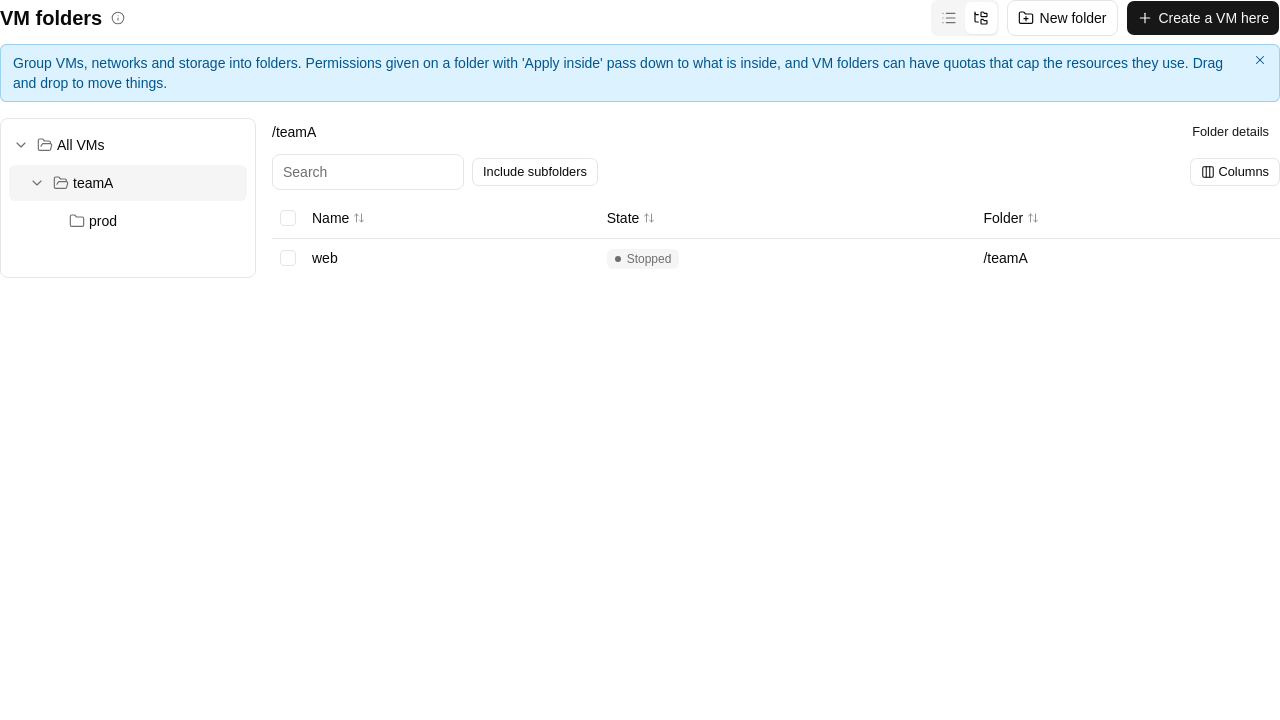
Test case: moves the chosen VMs with the bulk bar after a confirmation
Step 1. Click the checkbox named "Select web" → (288, 258), box [280,250,296,266]
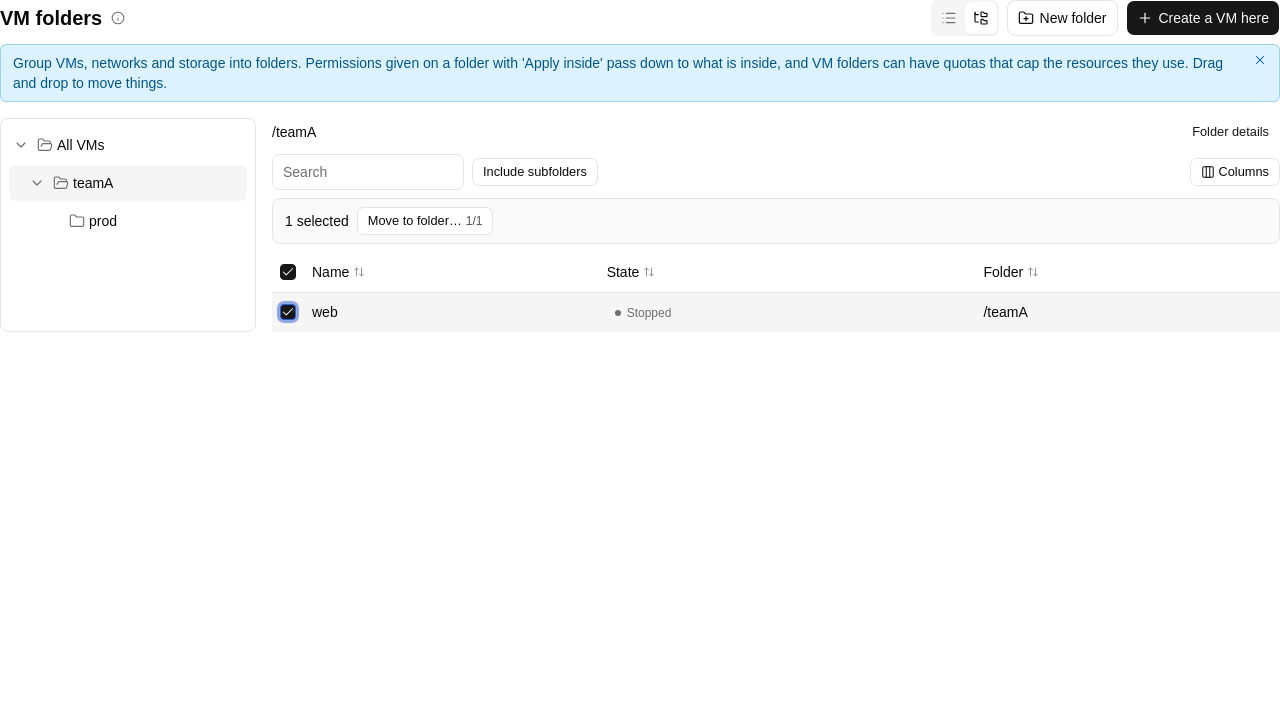
Step 2. Click the button with aria-label "Move to folder (1 possible, 0 not possible)" → (425, 221), box [357,207,493,235]
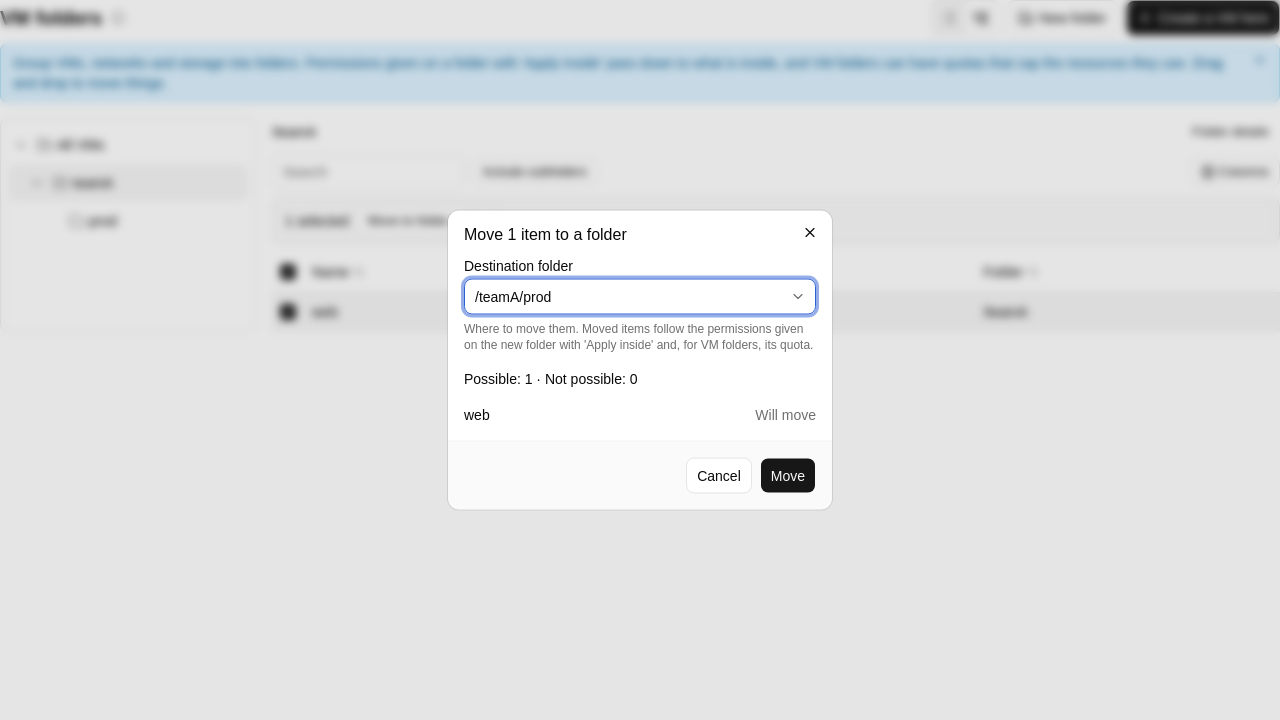
Step 3. Select "/teamA" in the dropdown labelled "Destination folder" → (640, 296), box [464,278,816,314]
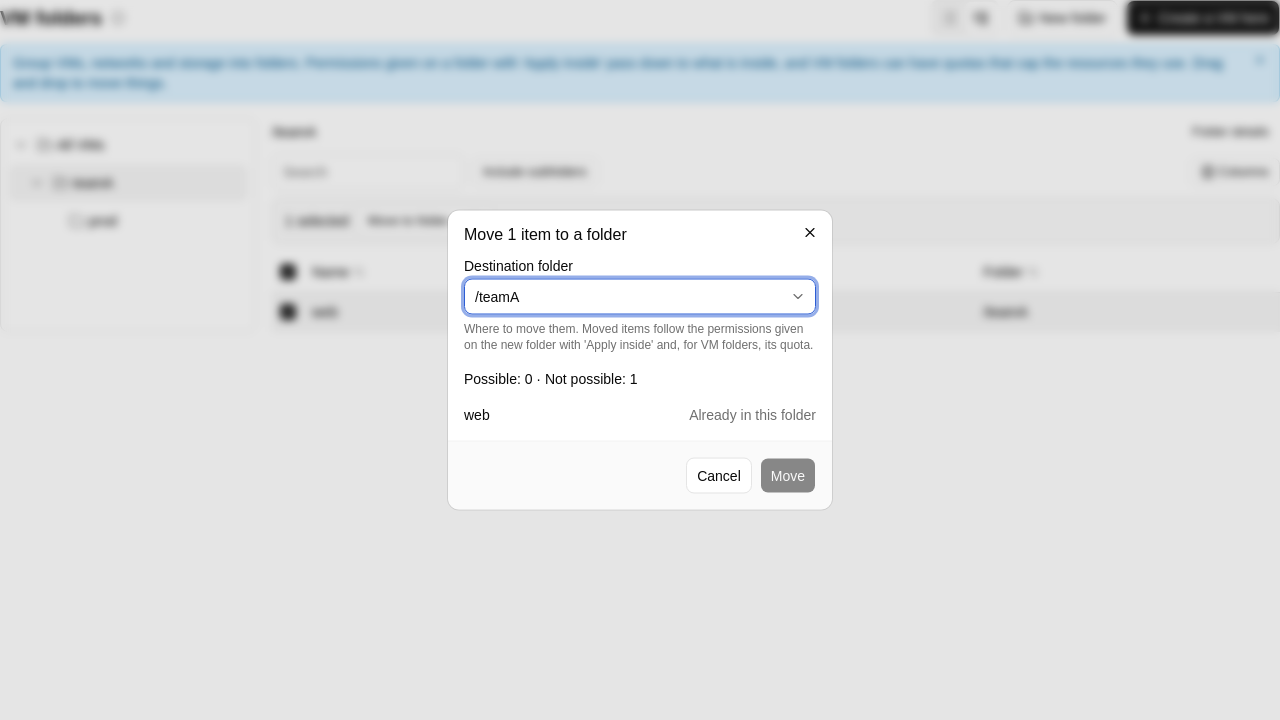
Expected: the text "Already in this folder" is shown, [689,404,816,424]
Expected: the button "Move" is disabled, [760,458,816,494]
Step 4. Select "/teamA/prod" in the dropdown labelled "Destination folder" → (640, 296), box [464,278,816,314]
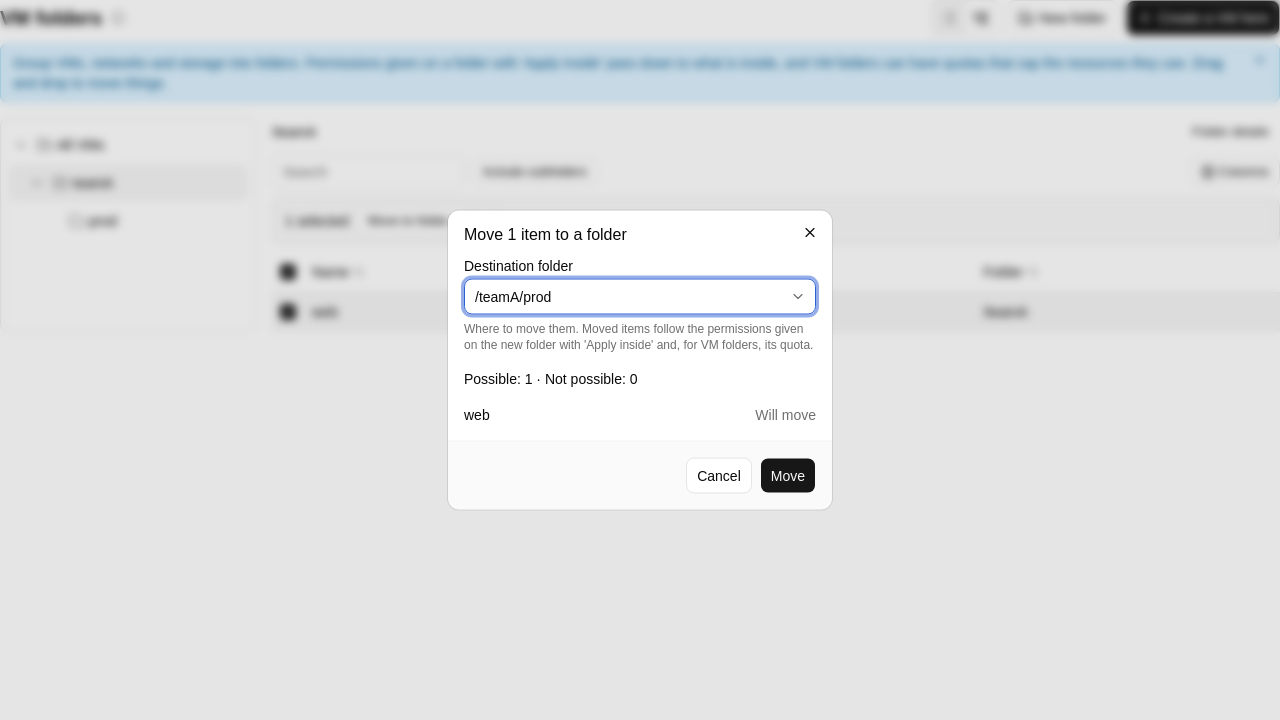
Step 5. Click the button "Move" → (788, 476), box [760,458,816,494]
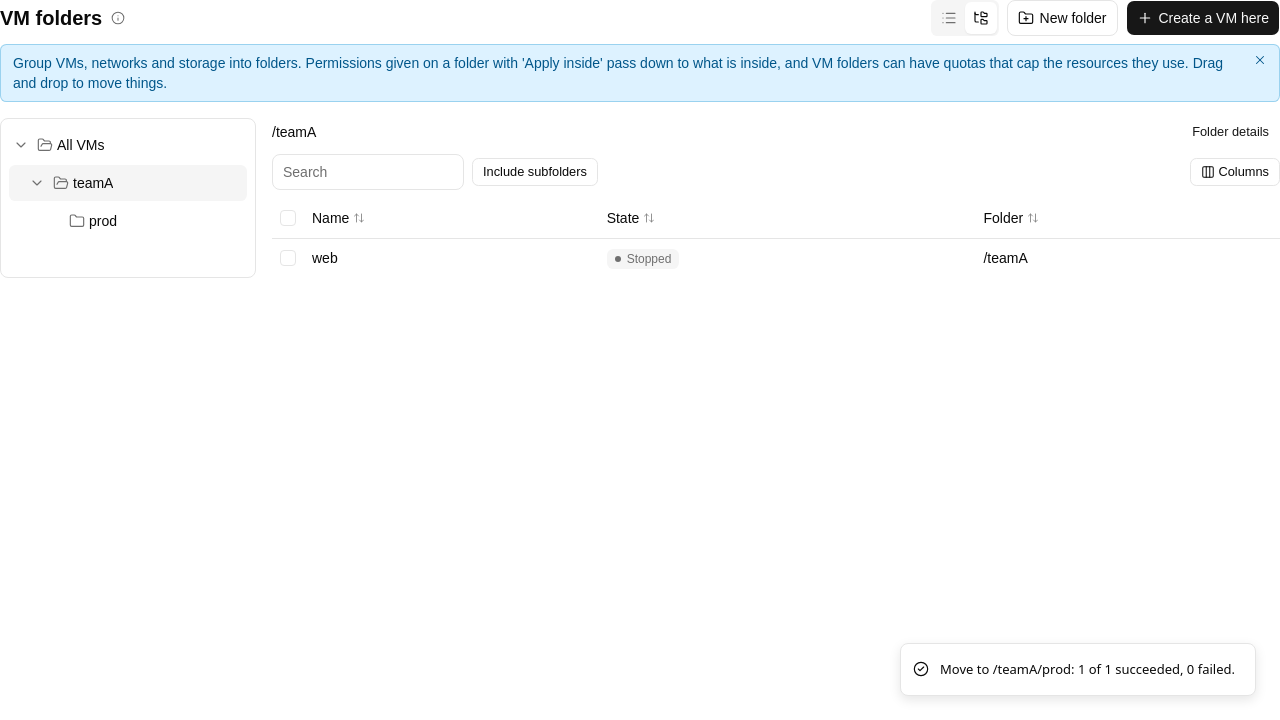
Expected: the text "Move to /teamA/prod: 1 of 1 succeeded, 0 failed." is shown, [940,660,1235,679]
